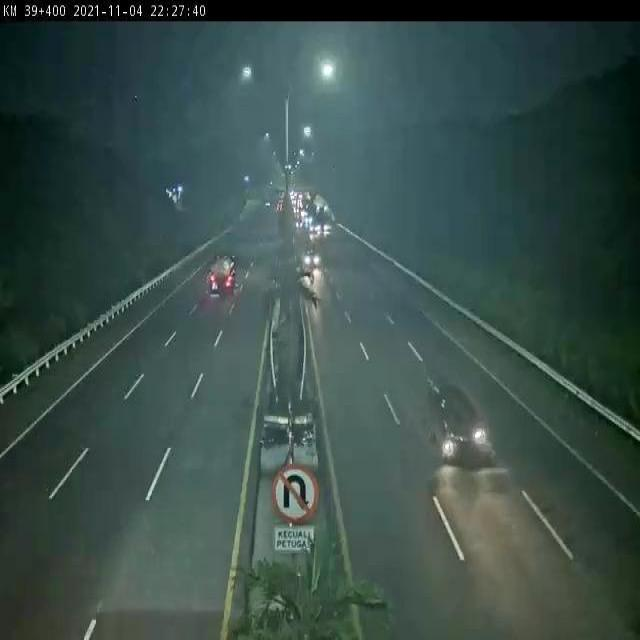car: (425, 383, 495, 469)
truck-l-: (208, 252, 236, 297)
